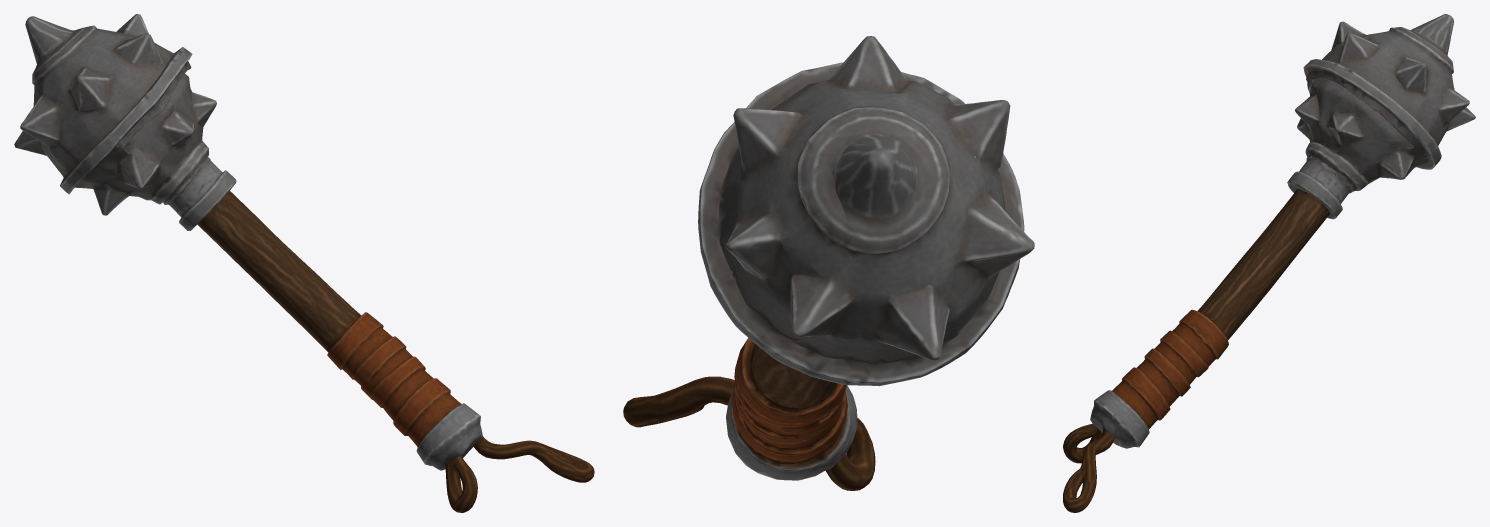
The model's file is spiked_mace.glb.
The picture shows the model from 3 angles, left to right: view 1: azimuth 30°, elevation 25°; view 2: azimuth 150°, elevation 25°; view 3: azimuth 270°, elevation 25°; orthographic projection. The views are drawn at different scales.
Parts seen in each view (by area): view 1: world; view 2: world; view 3: world.
Boxes of the visible parts, bbox=[...] form: world: bbox=[14, 14, 594, 512]; world: bbox=[623, 36, 1034, 490]; world: bbox=[1063, 14, 1475, 512].
Size of the model in its own units: 0.997 by 0.9642 by 1.
1 material, 1 textured.
